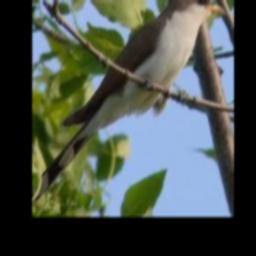Cuckoo: (32, 0, 226, 207)
